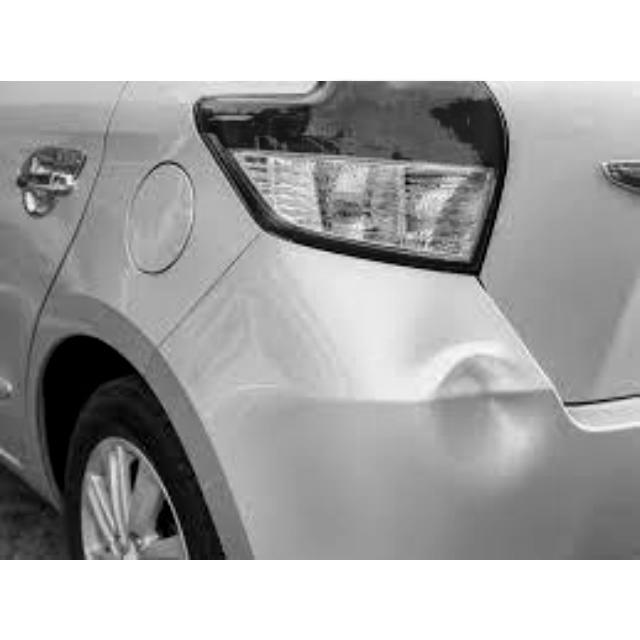rear-bumper-dent: (124, 298, 618, 557)
